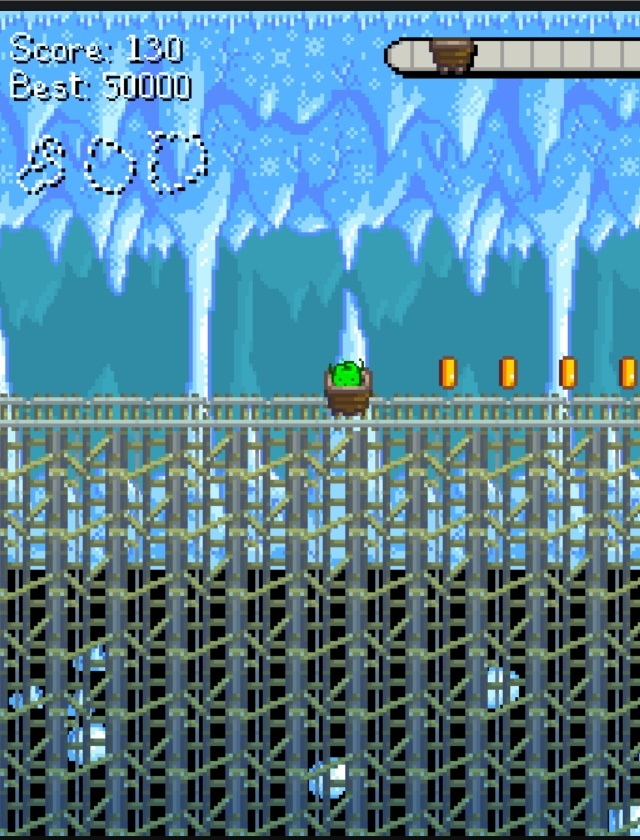coins: (559, 356, 577, 390), (439, 356, 457, 388), (499, 356, 517, 388), (620, 356, 637, 388)
minecart: (324, 360, 372, 416)
score: (125, 31, 185, 65)
tracks: (379, 391, 640, 433)
